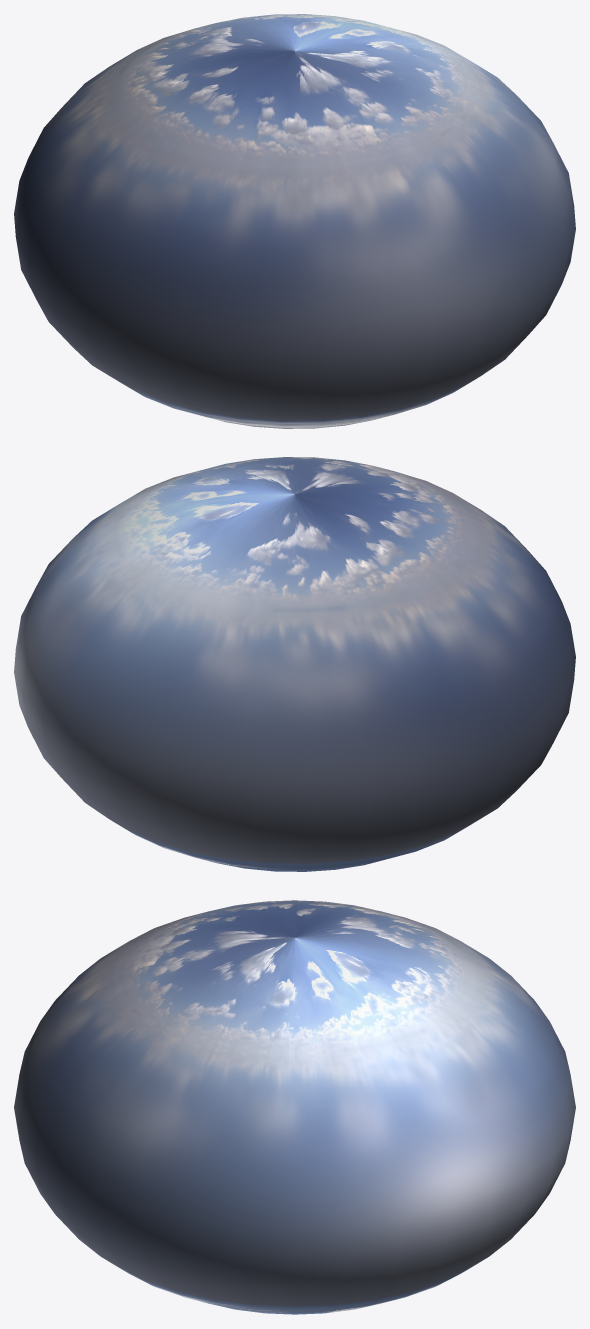
Rendered from Back.fbx.
3 views of the same model, one above another, from view 1: azimuth 30°, elevation 25°; view 2: azimuth 150°, elevation 25°; view 3: azimuth 270°, elevation 25° (orthographic).
Parts seen in each view (by area): view 1: 空; view 2: 空; view 3: 空.
Boxes of the visible parts, <box> form: 空: <box>14,14,575,428</box>; 空: <box>14,457,575,871</box>; 空: <box>14,900,575,1314</box>.
Bounding box in the file's own units: 1500 × 1000 × 1500.
Materials: 1 (1 with a texture image).
